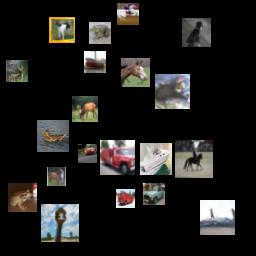airplane: (200, 200, 235, 235)
automobile: (143, 183, 165, 205), (78, 144, 97, 163)
bird: (41, 204, 79, 242), (37, 120, 69, 152)
cat: (155, 74, 190, 109)
deer: (72, 96, 98, 122), (6, 60, 28, 82)
dog: (182, 18, 211, 47), (49, 17, 75, 43)
frog: (8, 183, 37, 212), (89, 22, 111, 44)
ship: (140, 143, 172, 175), (84, 51, 106, 73)
truck: (100, 140, 135, 175), (116, 189, 135, 208)
